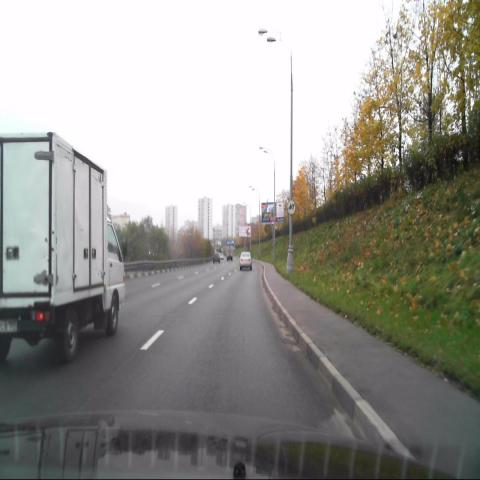3_25: (287, 200, 295, 215)
